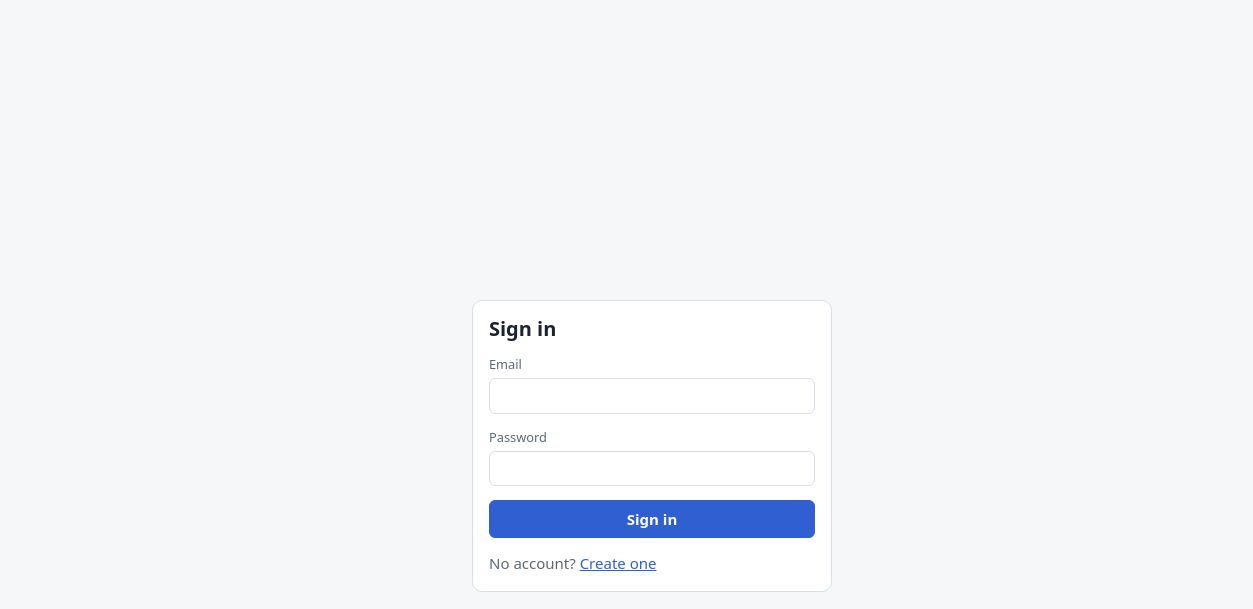
Test: auth flow › signs in and lands on the explorer
In the field labelled "Email": (652, 396) [489,378,815,414], type "me@example.com"
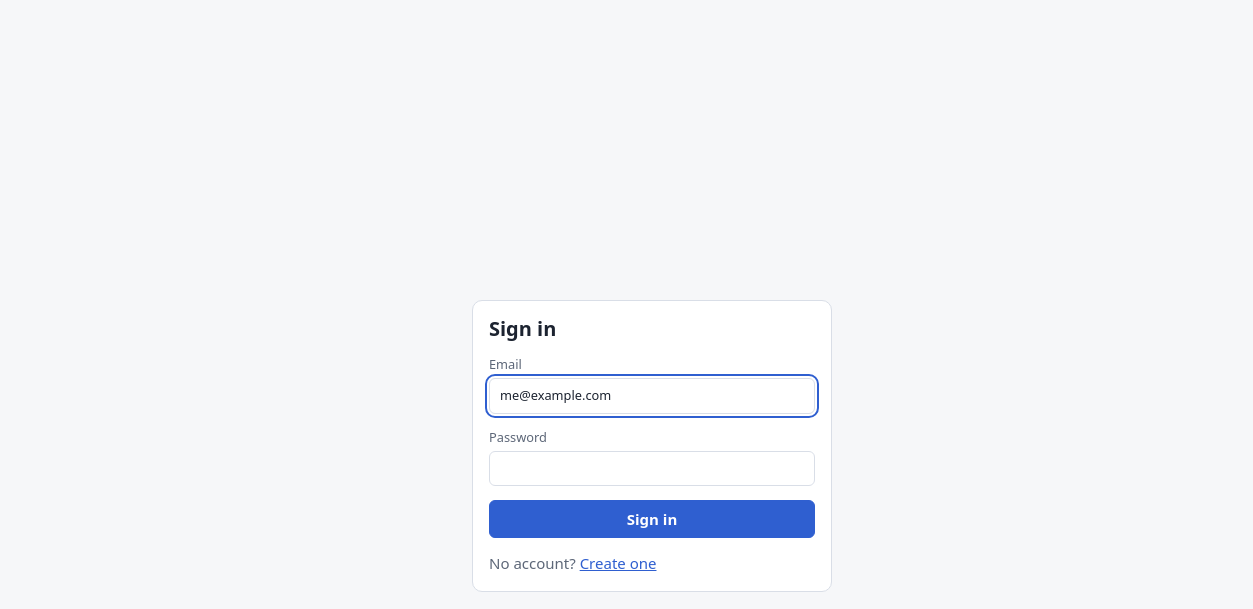
In the password field labelled "Password": (652, 468) [489,451,815,486], type "password123"
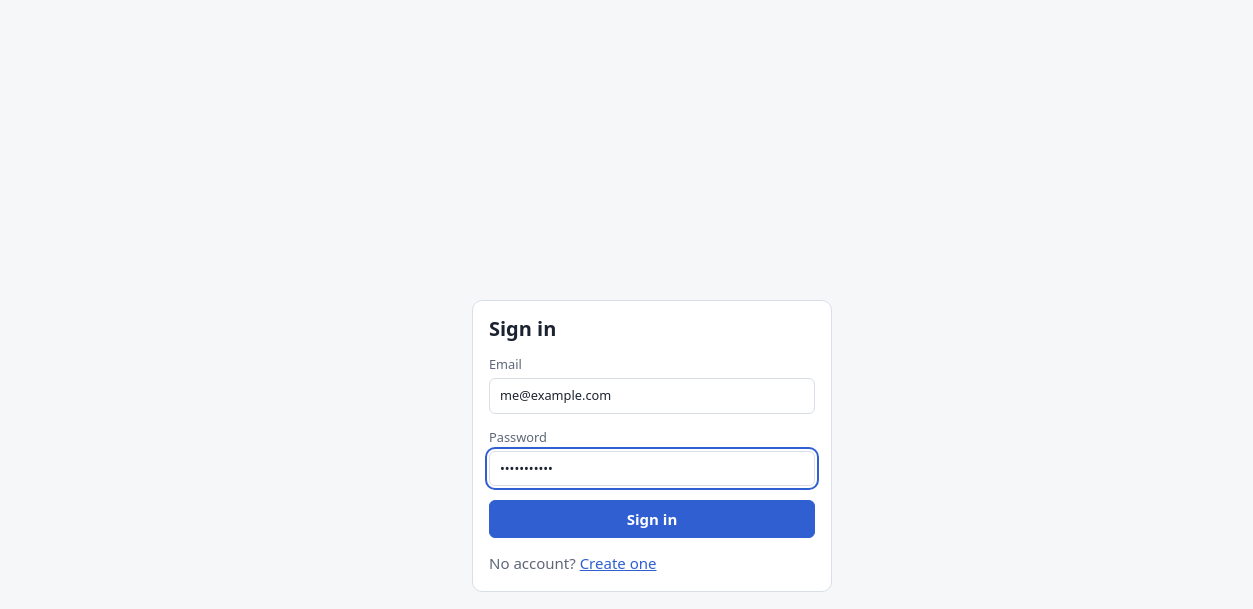
Click the button "Sign in": (652, 519) [489,500,815,538]
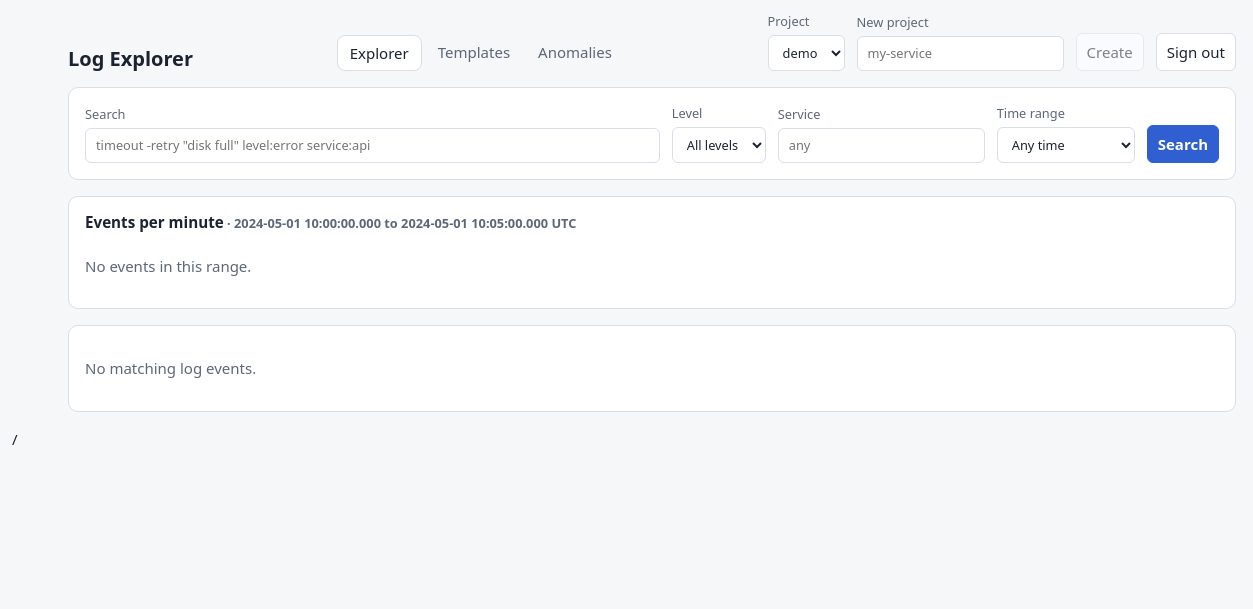
Check: the heading "Log Explorer" is shown, box [68,47,193,71]
Check: the text with test id "location" reads "/", box [12,429,18,449]
